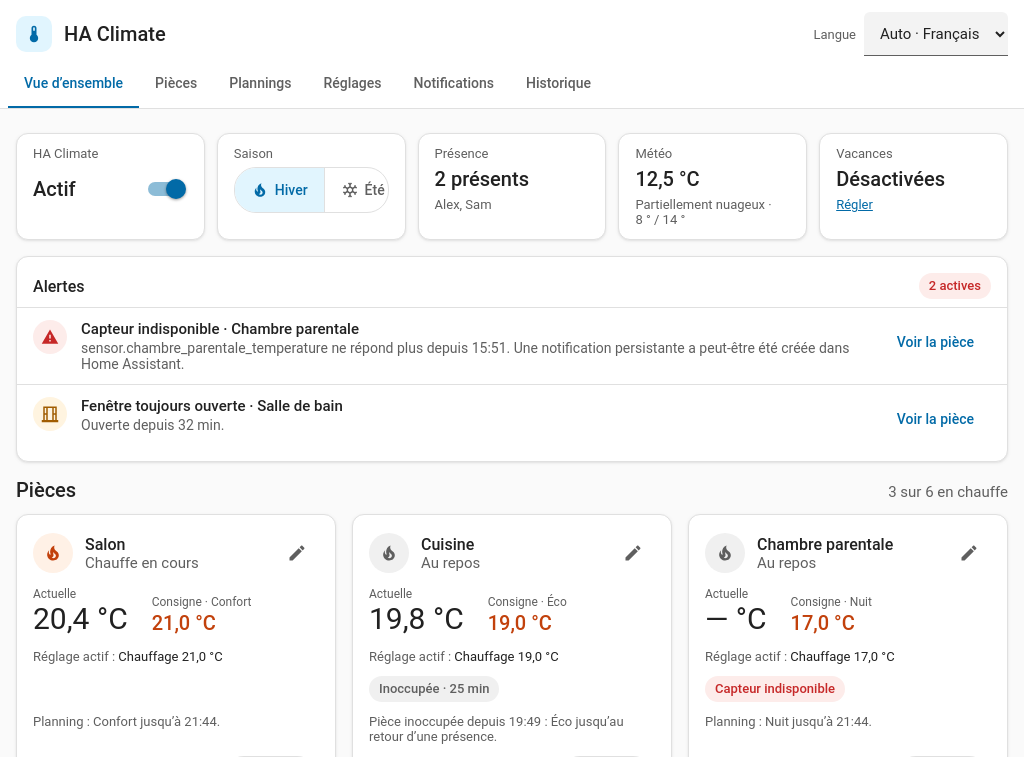
it: App shell › shows a toast on network errors
Step 1. Click the link with class "tab" showing "Pièces" → click(176, 83), box 155,75 -> 197,91
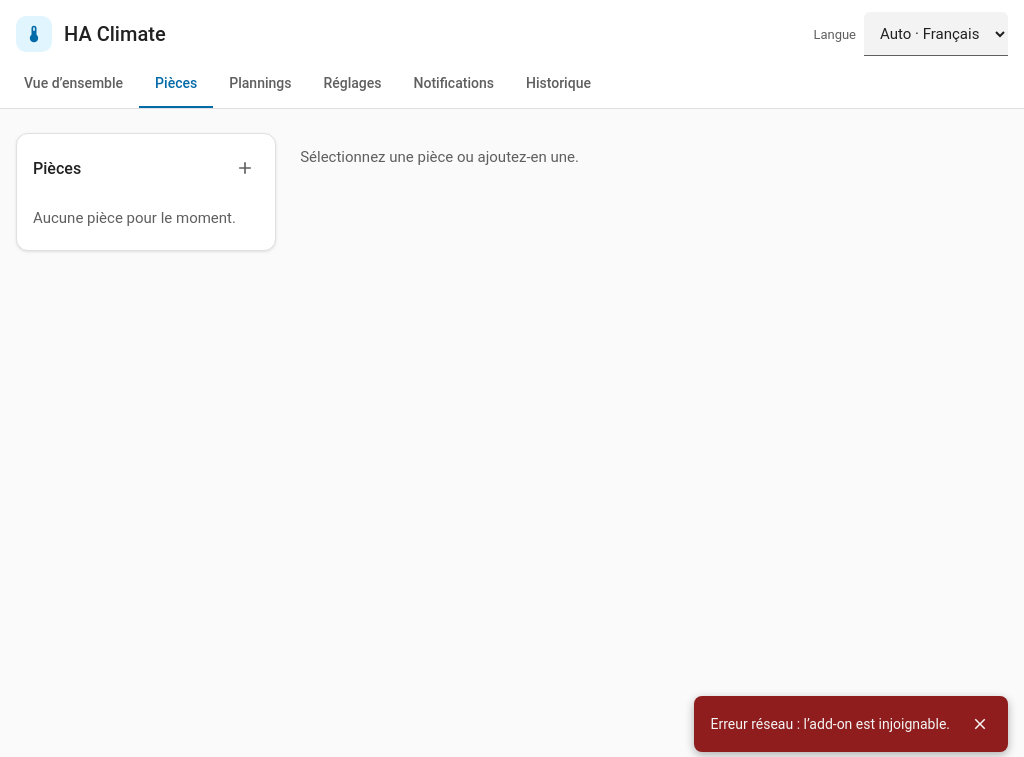
Now the element with class "toasts" shows "Erreur réseau", box 710,716 -> 950,732
